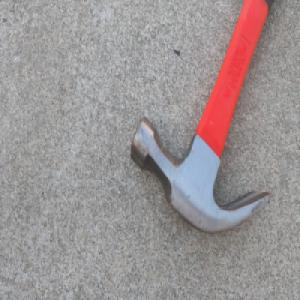Hammer: (126, 0, 277, 237)
